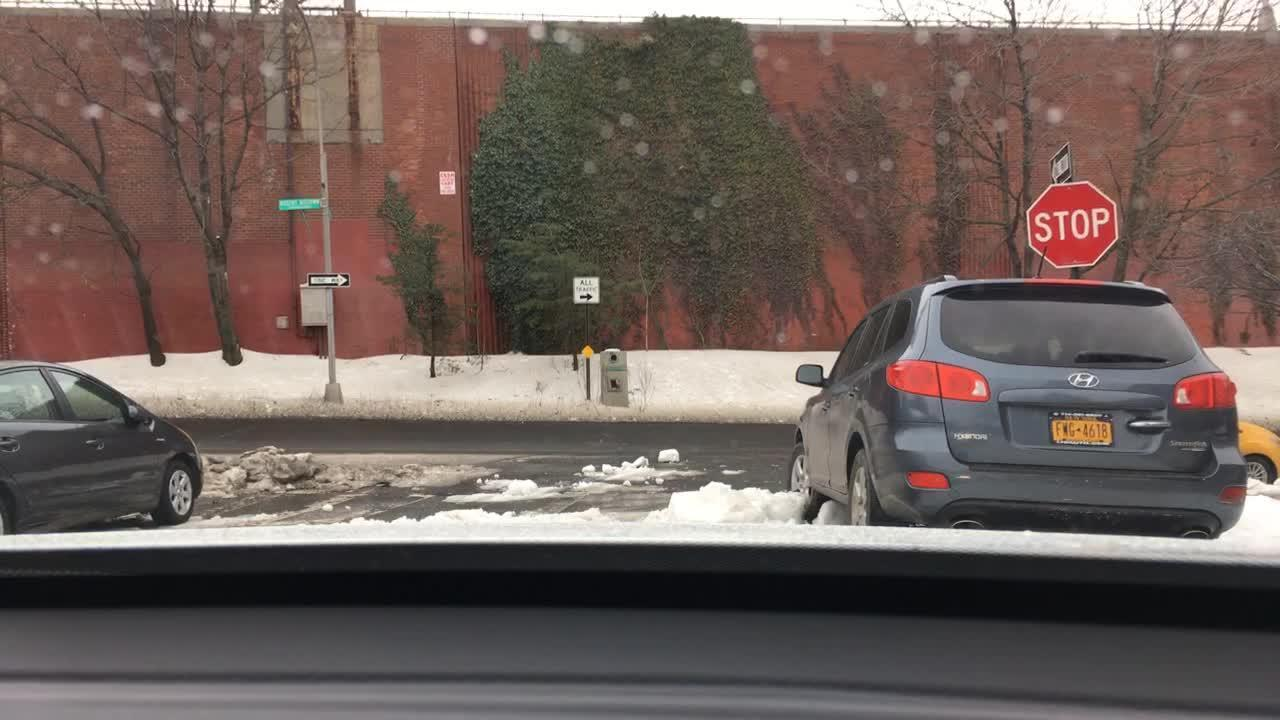Hyundai: (1064, 364, 1104, 399)
